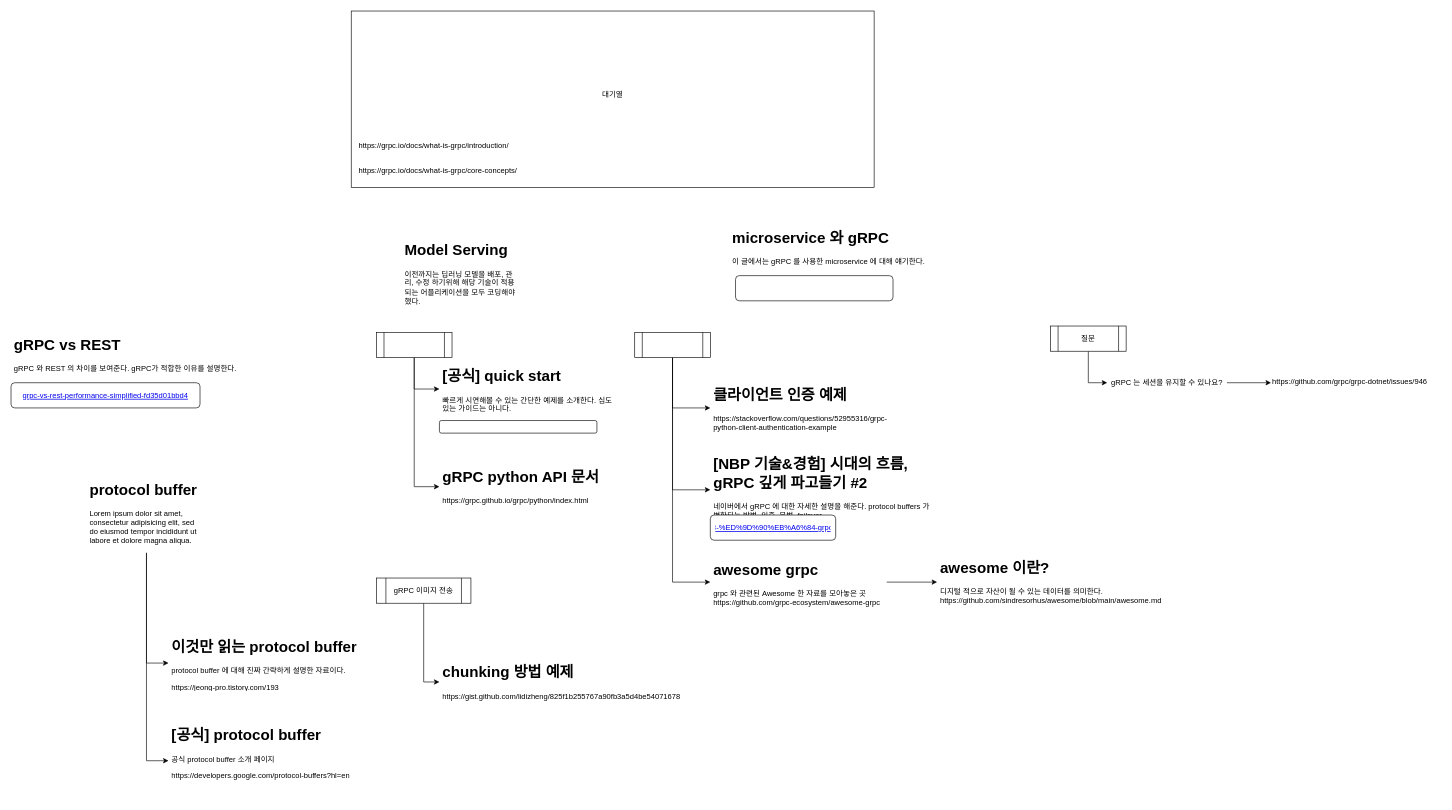
The diagram is 1452 pixels wide and 810 high, and some of its shapes have lost their labels. The shapes that lost their labels are listed below. From the top down, each one's centre as x and y in pixels, then its label:
point (814, 288): microservices-with-grpc-d504133d191d
point (414, 345): 문서
point (672, 345): 가이드
